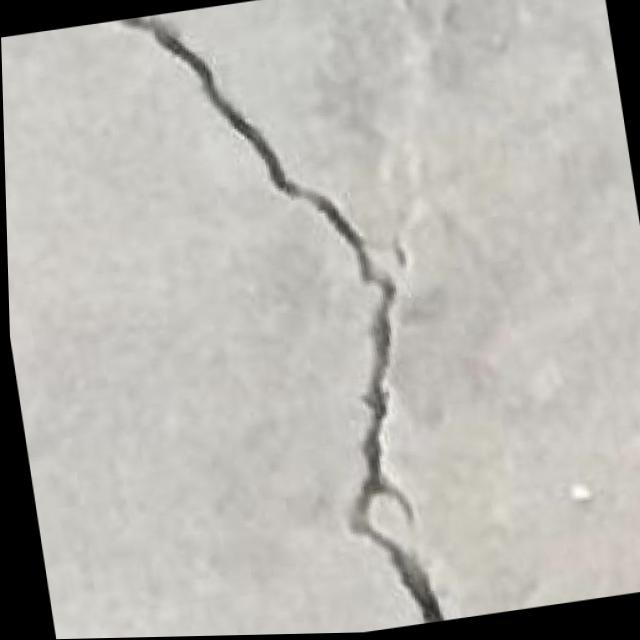Crack: (104, 0, 473, 638)
